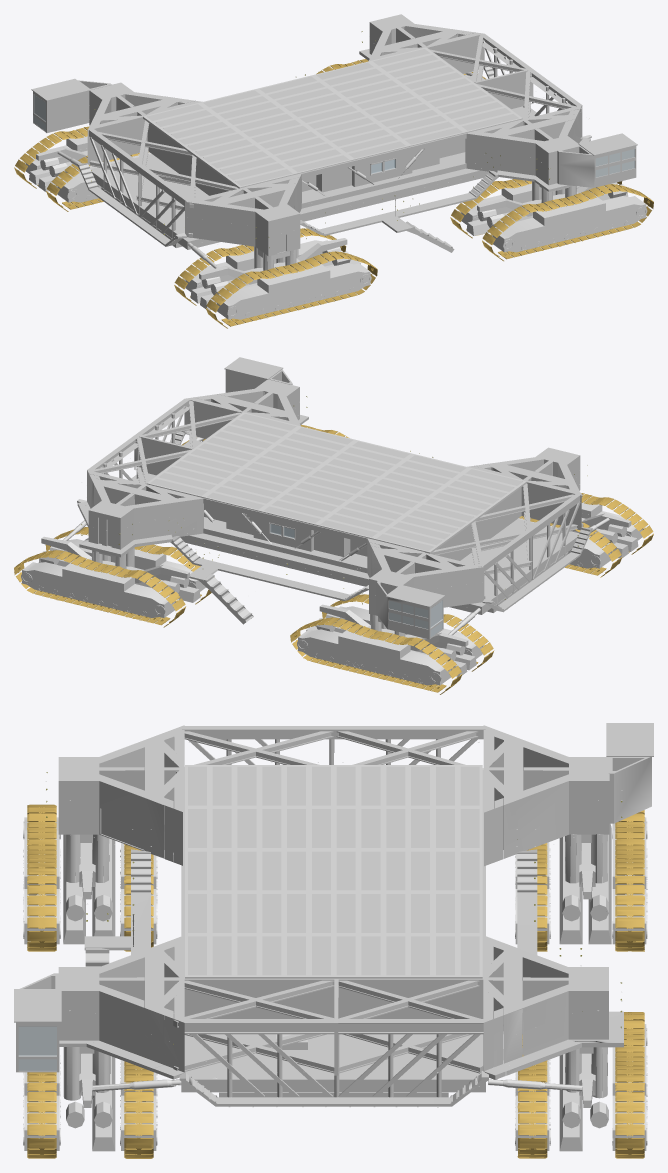
The model's file is crawler.glb.
3 renders of one model, top to bottom at view 1: azimuth 30°, elevation 25°; view 2: azimuth 150°, elevation 25°; view 3: azimuth 270°, elevation 25°, orthographic. The views are drawn at different scales.
Parts seen in each view (by area): view 1: polySurface1; view 2: polySurface1; view 3: polySurface1.
Part boxes in pixels (x1,y1,x2,y2): polySurface1: [14, 14, 653, 328]; polySurface1: [14, 357, 653, 694]; polySurface1: [14, 723, 653, 1158].
Size of the model in its own units: 8.77 by 1.7 by 7.19.
